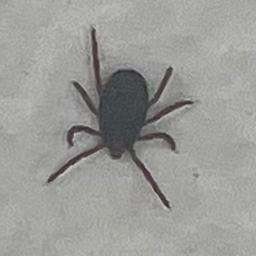Rhipicephalus sanguineus: (46, 26, 191, 209)
